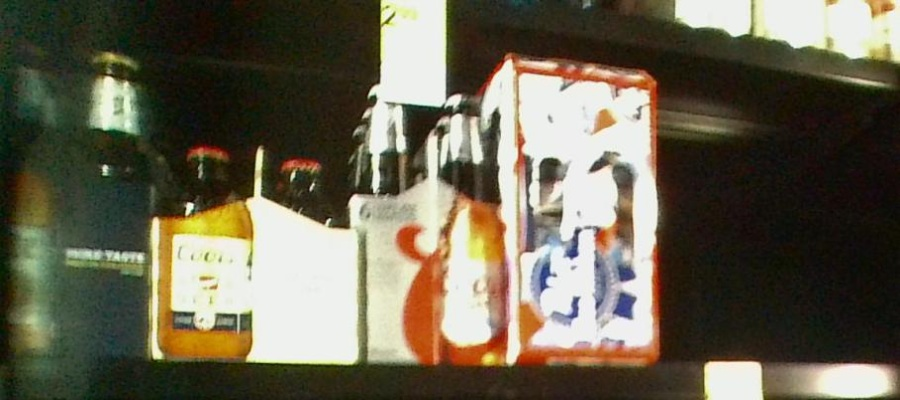bottle: (1, 33, 150, 364), (503, 49, 656, 369), (149, 144, 358, 367), (364, 83, 510, 370)
